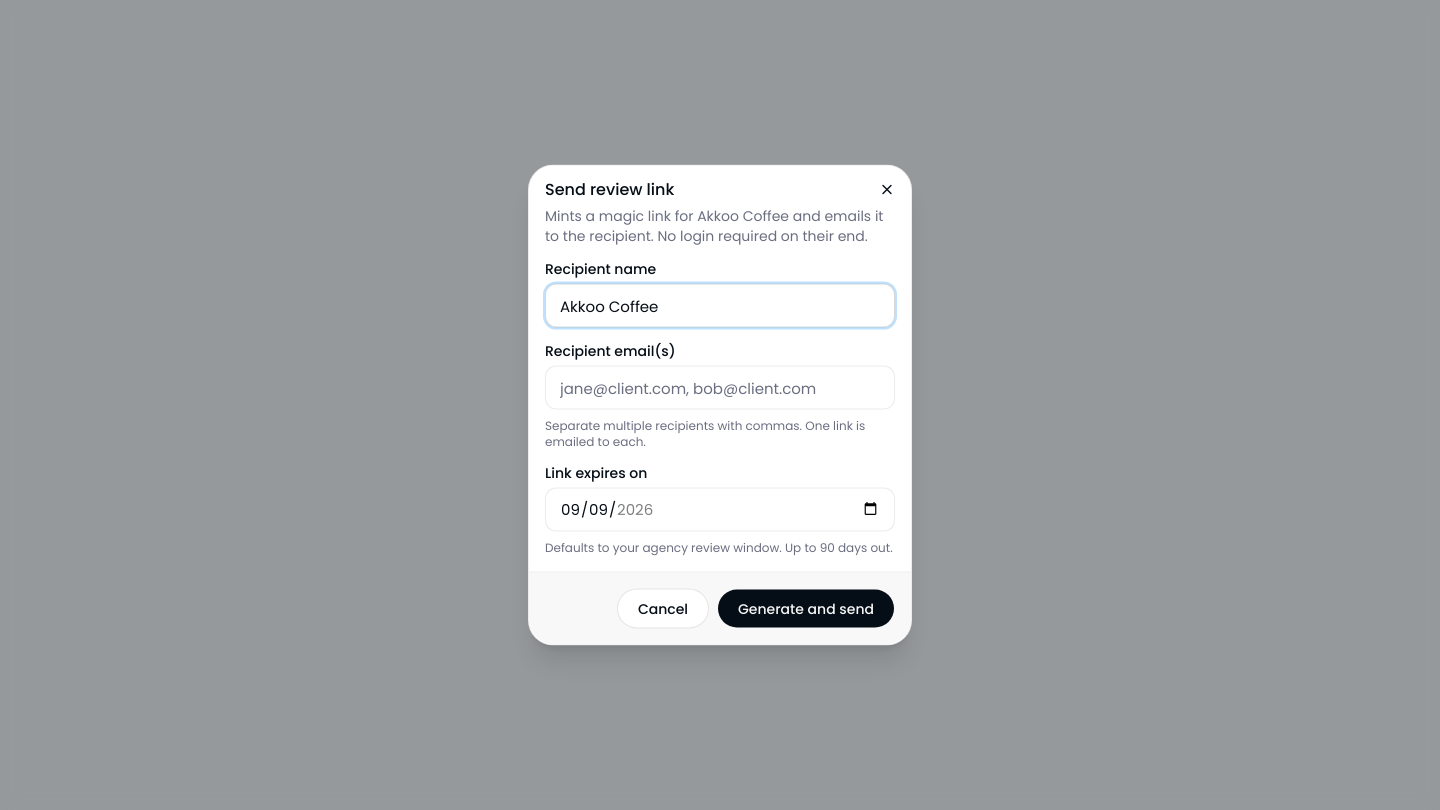
Test: SendLinkModal › P2 #22: parses comma-separated recipients into a deduped list (multi-recipient)
Step 1. Replace the text in the field labelled "Recipient name" with "Jane Doe" → (720, 306), box [545,284,895,328]
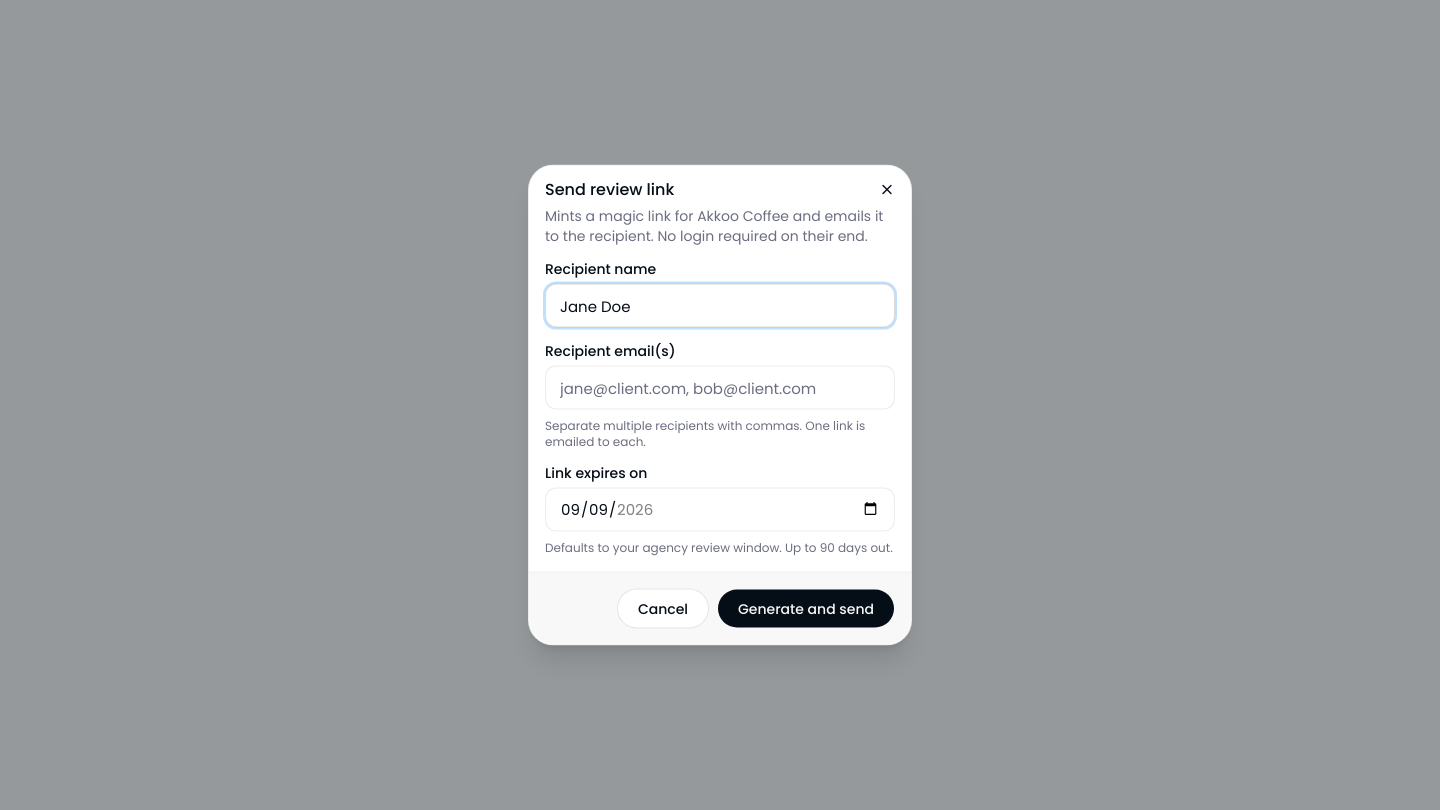
Step 2. Type "jane@client.com, bob@client.com, jane@CLIENT.com" into the field labelled "Recipient email(s)" → (720, 388), box [545,366,895,410]
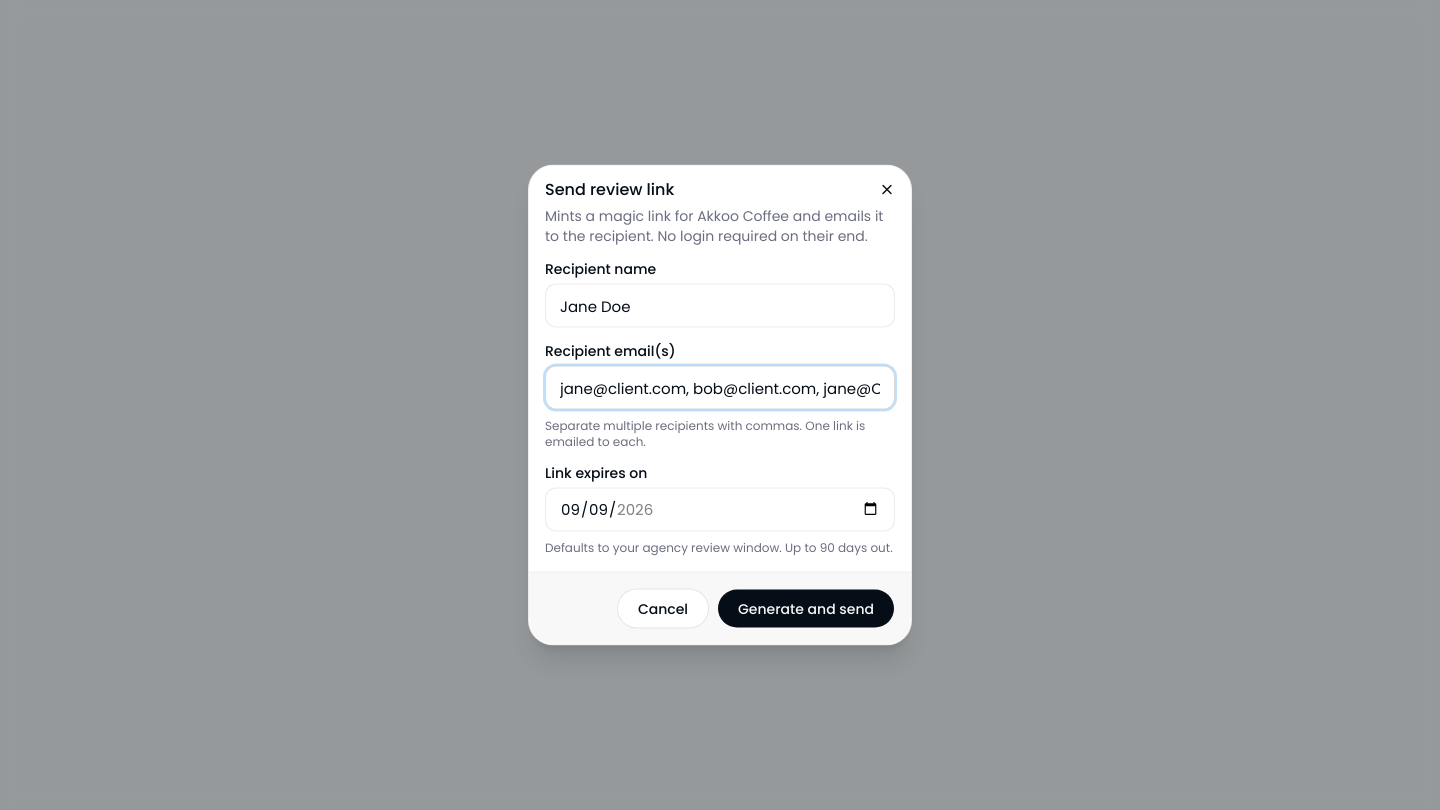
Step 3. Click the button "Generate and send" → (806, 608), box [717,588,895,628]
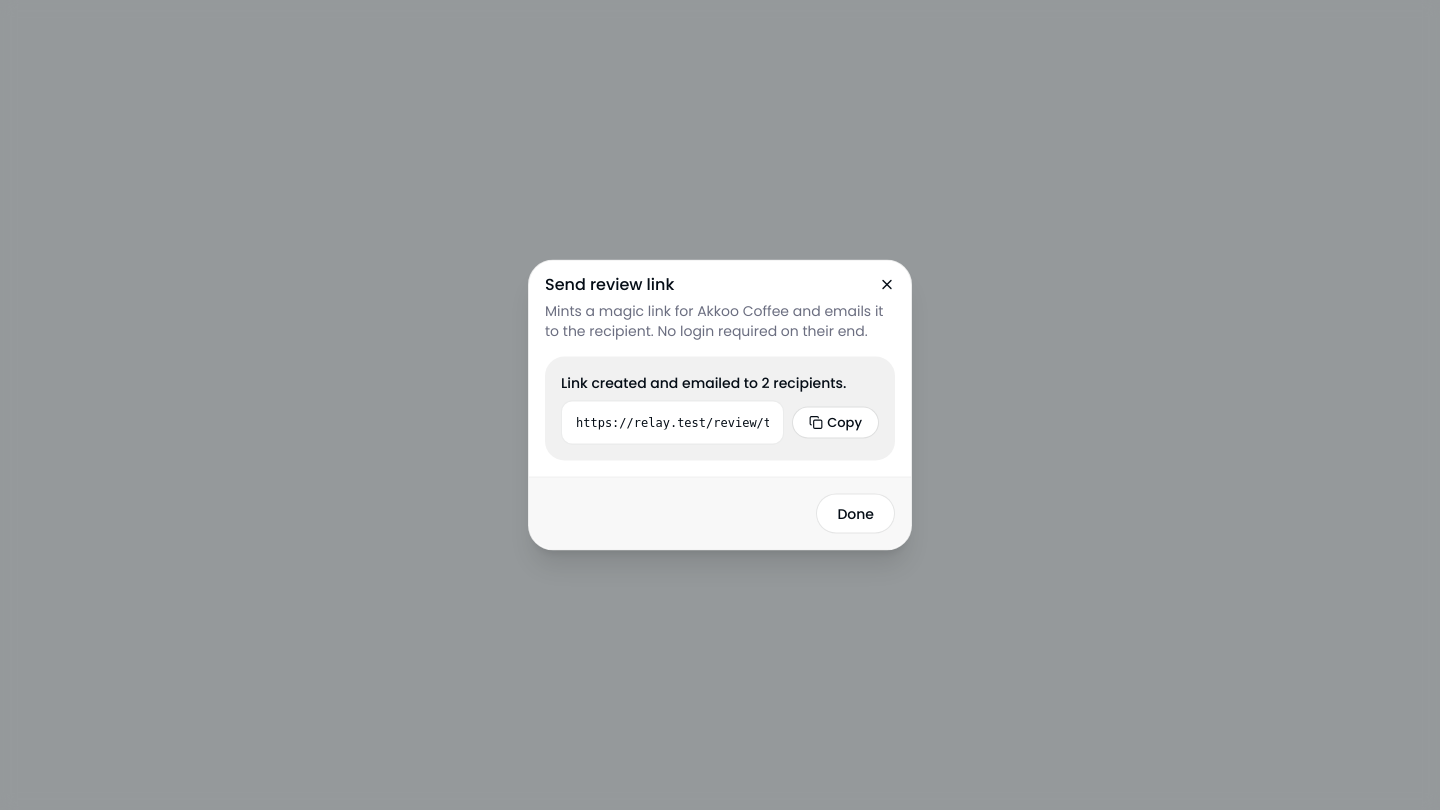
expect the element with test id "send-link-success" shows "emailed to 2 recipients": met, box [561,372,846,392]
